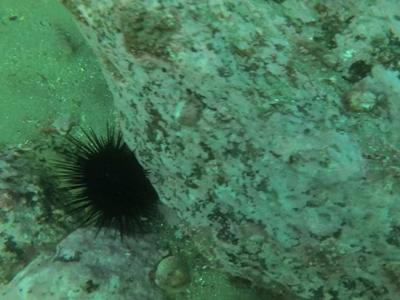urchin: (40, 120, 174, 245)
